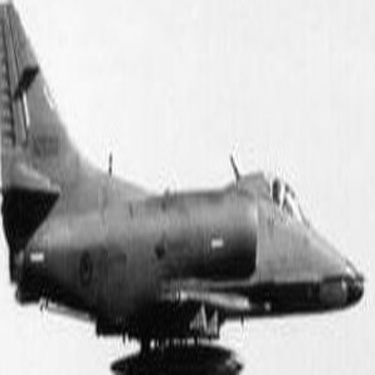airplane: (2, 2, 367, 373)
